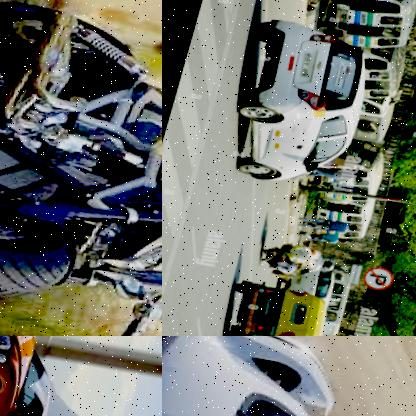car: (228, 16, 387, 195), (162, 336, 416, 416), (0, 336, 88, 416)
